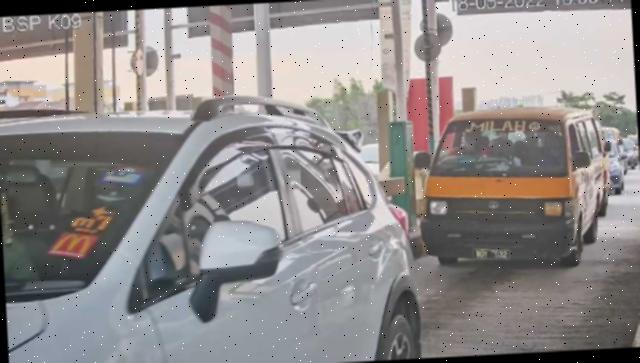License_Plate: (473, 246, 513, 264)
van: (415, 106, 610, 277)
